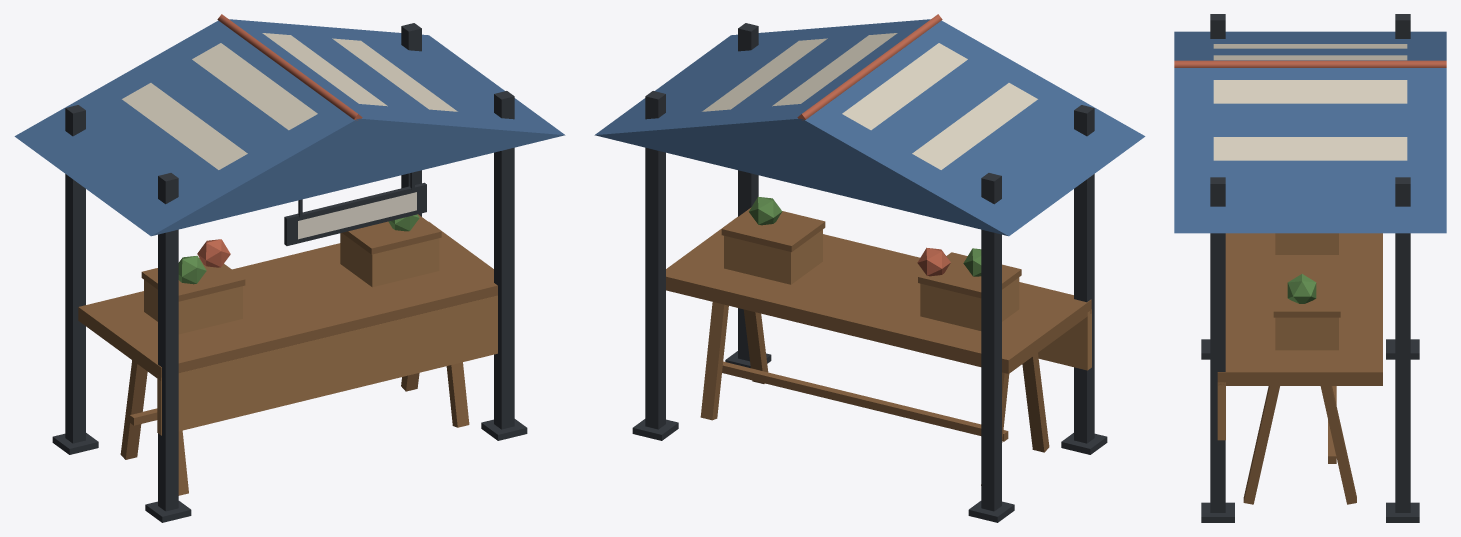
Rendered from market-stall.glb.
The picture shows the model from 3 angles, left to right: view 1: azimuth 30°, elevation 25°; view 2: azimuth 150°, elevation 25°; view 3: azimuth 270°, elevation 25°; orthographic projection.
Parts seen in each view (by area): view 1: Merged_prop-body, Merged_city-timber, Merged_city-timber-light, Merged_city-metal-dark, Merged_prop-body-light-surface, Merged_city-poster-surface, Merged_prop-accent, Merged_city-foliage; view 2: Merged_prop-body, Merged_city-timber, Merged_city-metal-dark, Merged_prop-body-light-surface, Merged_city-timber-light, Merged_prop-accent, Merged_city-foliage; view 3: Merged_prop-body, Merged_city-timber, Merged_city-metal-dark, Merged_prop-body-light-surface, Merged_city-timber-light, Merged_prop-accent, Merged_city-foliage.
Part boxes in pixels (left/top/right/bottom): Merged_prop-body: left=14, top=19, right=565, bottom=236; Merged_city-timber: left=78, top=214, right=497, bottom=495; Merged_city-timber-light: left=144, top=233, right=497, bottom=435; Merged_city-metal-dark: left=52, top=23, right=527, bottom=522; Merged_prop-body-light-surface: left=122, top=33, right=457, bottom=169; Merged_city-poster-surface: left=298, top=192, right=416, bottom=239; Merged_prop-accent: left=197, top=14, right=362, bottom=267; Merged_city-foliage: left=178, top=214, right=419, bottom=284; Merged_prop-body: left=594, top=19, right=1145, bottom=236; Merged_city-timber: left=666, top=207, right=1091, bottom=485; Merged_city-metal-dark: left=632, top=23, right=1107, bottom=522; Merged_prop-body-light-surface: left=702, top=33, right=1037, bottom=169; Merged_city-timber-light: left=724, top=229, right=1091, bottom=370; Merged_prop-accent: left=797, top=14, right=950, bottom=276; Merged_city-foliage: left=749, top=197, right=981, bottom=276; Merged_prop-body: left=1174, top=31, right=1446, bottom=233; Merged_city-timber: left=1217, top=233, right=1382, bottom=504; Merged_city-metal-dark: left=1201, top=14, right=1419, bottom=522; Merged_prop-body-light-surface: left=1213, top=44, right=1407, bottom=160; Merged_city-timber-light: left=1217, top=233, right=1338, bottom=440; Merged_prop-accent: left=1174, top=60, right=1446, bottom=67; Merged_city-foliage: left=1287, top=274, right=1316, bottom=303.
Size of what is drawn, in the model's own units: 2.84 by 2.45 by 1.62.
